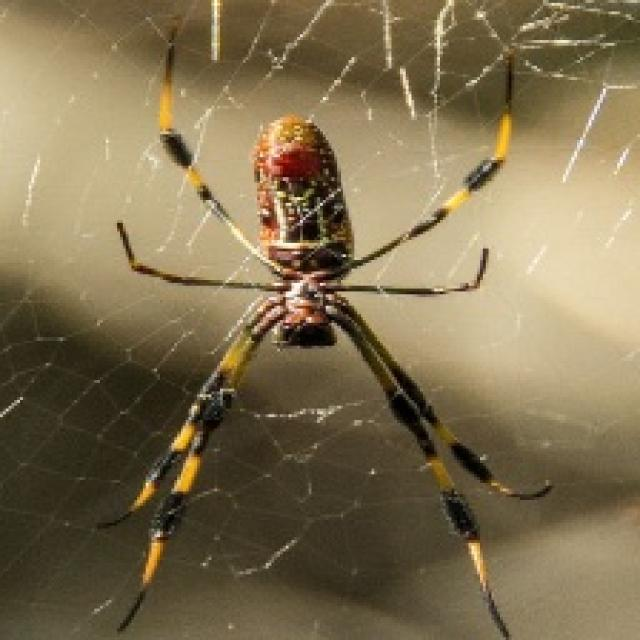Non venomous spider: (106, 16, 548, 618)
